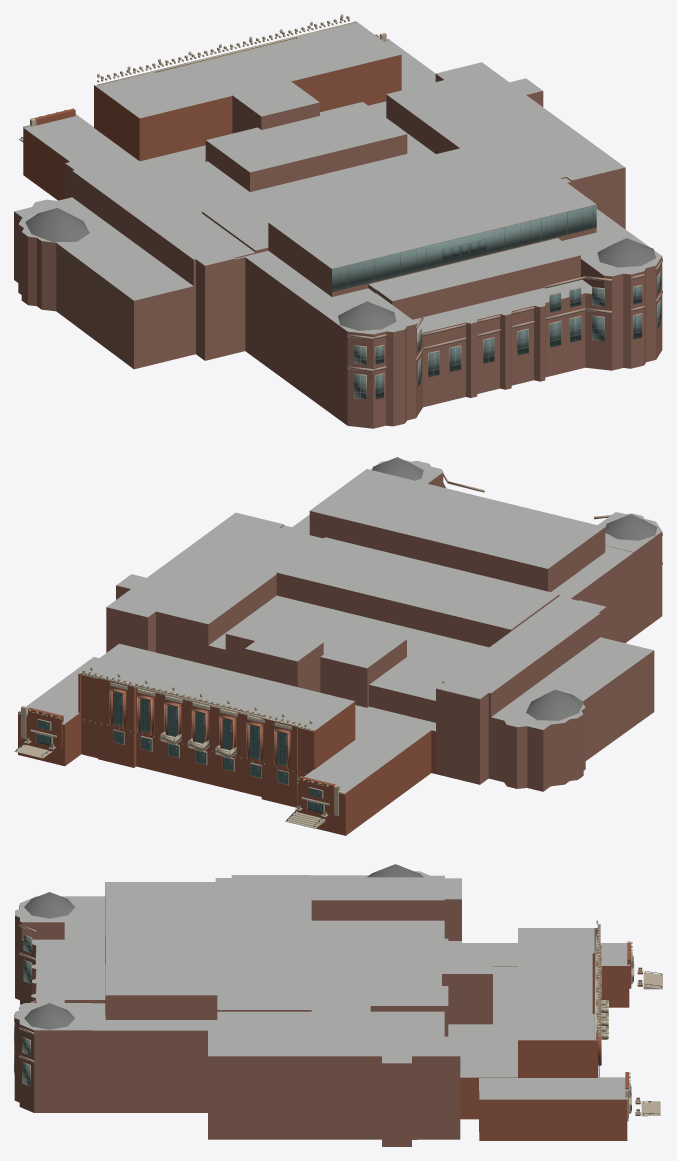
File: site.glb
The picture shows the model from 3 angles, top to bottom: view 1: azimuth 30°, elevation 25°; view 2: azimuth 150°, elevation 25°; view 3: azimuth 270°, elevation 25°; orthographic projection. The views are drawn at different scales.
Visible parts, largest first — view 1: roof-6684e091; view 2: roof-6684e091; view 3: roof-6684e091.
Boxes of the visible parts, bbox=[...] form: roof-6684e091: bbox=[14, 14, 662, 428]; roof-6684e091: bbox=[14, 457, 662, 835]; roof-6684e091: bbox=[14, 864, 662, 1146].
Bounding box in the file's own units: 106 × 24.23 × 133.
